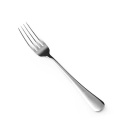Fork: (12, 14, 121, 128)
